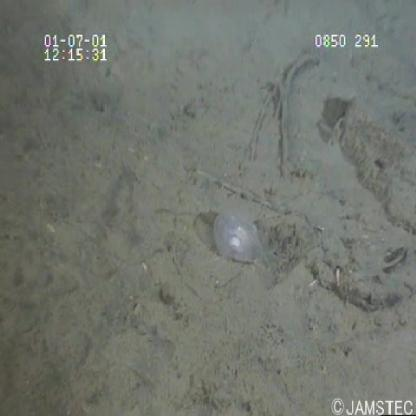Rác: (209, 198, 272, 276)
